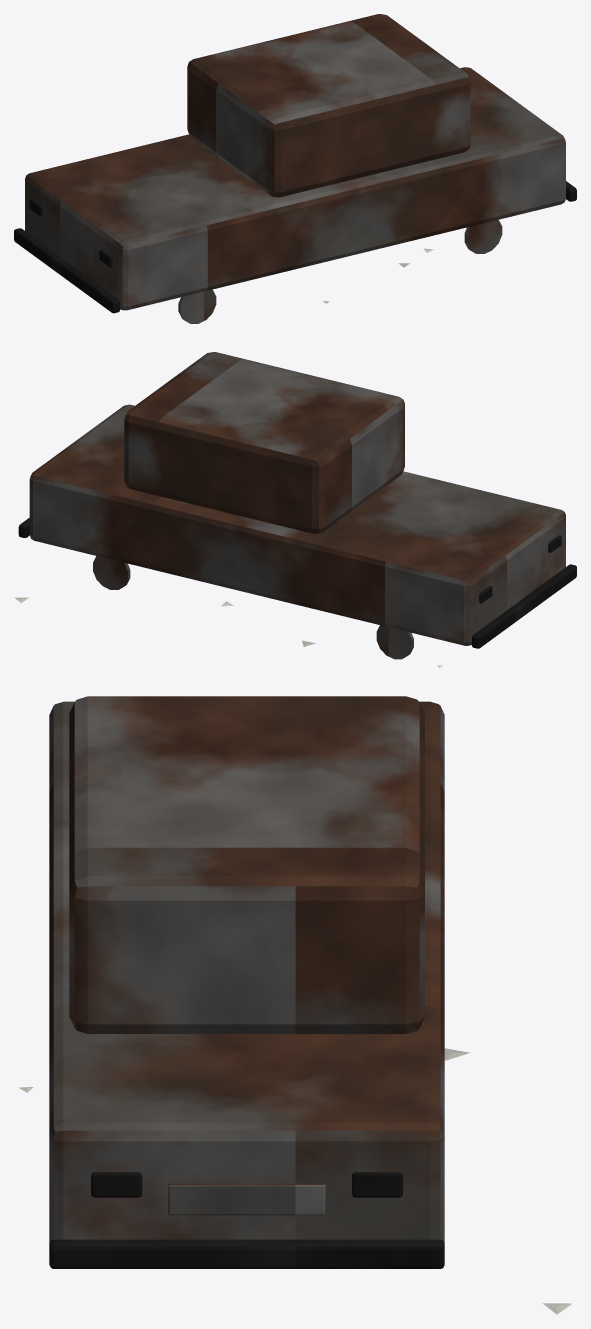
File: JV02_burnt_car_shell_v3.glb
The picture shows the model from 3 angles, top to bottom: view 1: azimuth 30°, elevation 25°; view 2: azimuth 150°, elevation 25°; view 3: azimuth 270°, elevation 25°; orthographic projection. The views are drawn at different scales.
Visible parts, largest first — view 1: JV02_burnt_car_shell_v3; view 2: JV02_burnt_car_shell_v3; view 3: JV02_burnt_car_shell_v3.
Part boxes in pixels (bbox=[...]): JV02_burnt_car_shell_v3: bbox=[14, 14, 576, 323]; JV02_burnt_car_shell_v3: bbox=[14, 352, 576, 667]; JV02_burnt_car_shell_v3: bbox=[18, 696, 571, 1314].
Size of the model in its own units: 4.4 by 1.64 by 2.29.
Materials: 5 (5 with a texture image).
